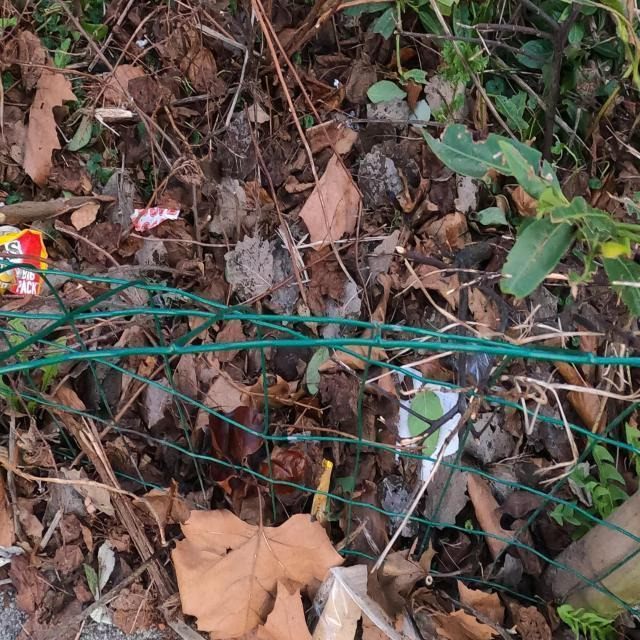Plastic: (0, 222, 48, 298), (311, 457, 334, 525), (130, 204, 180, 232)
